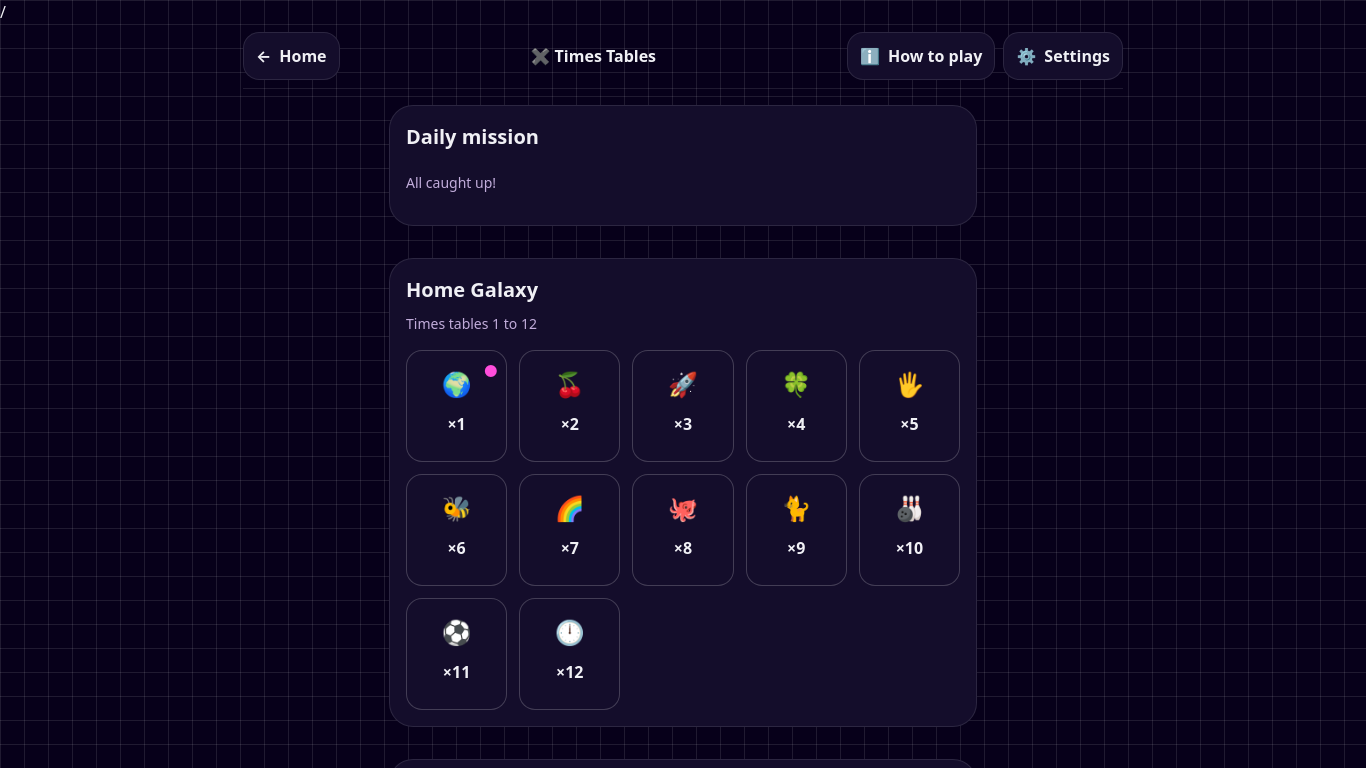
TimesTablesPage › keeps the rules one tap away in the game rather than on the home screen
The image size is (1366, 768).
Click the button "ℹ️ How to play".
click(921, 56)  # box [847,32,995,80]
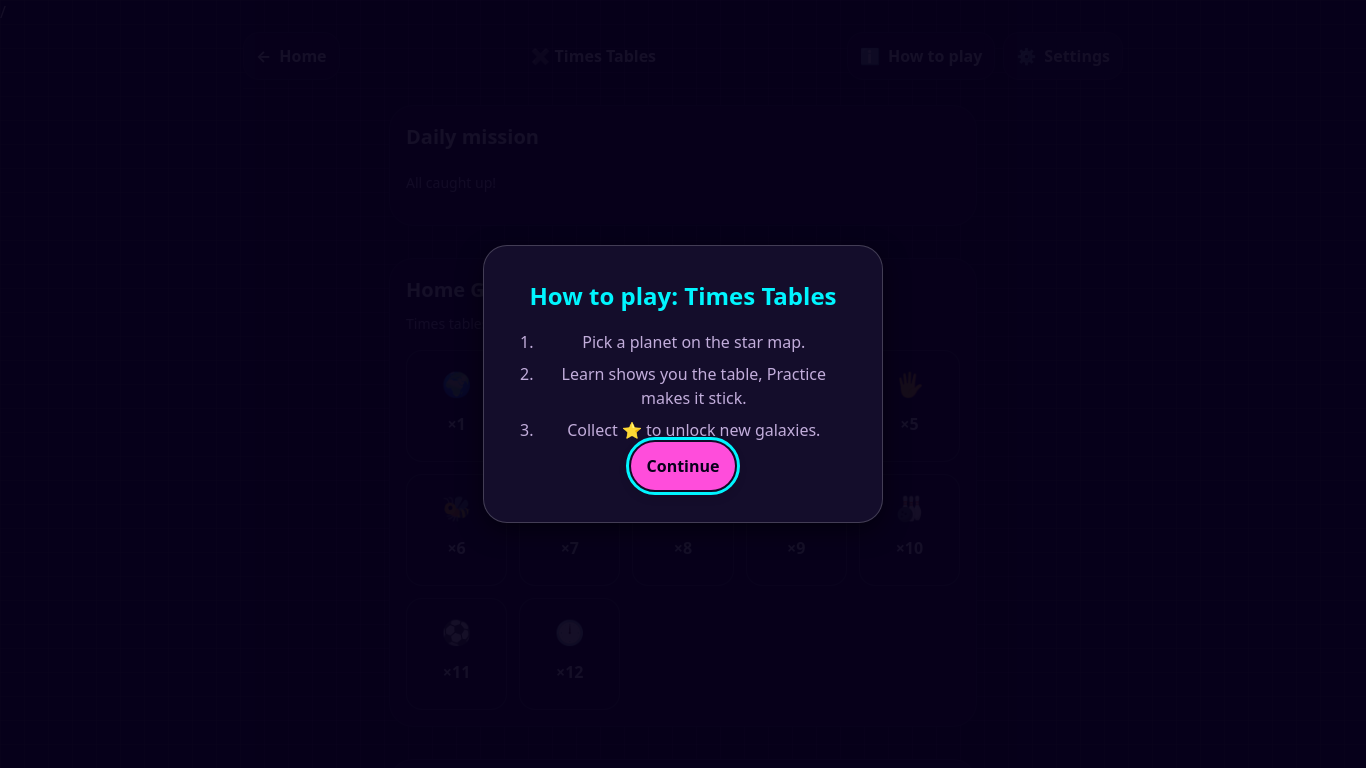
Expected: the dialog "How to play: Times Tables" is shown
Click the button "Continue".
click(683, 466)  # box [630,442,735,490]
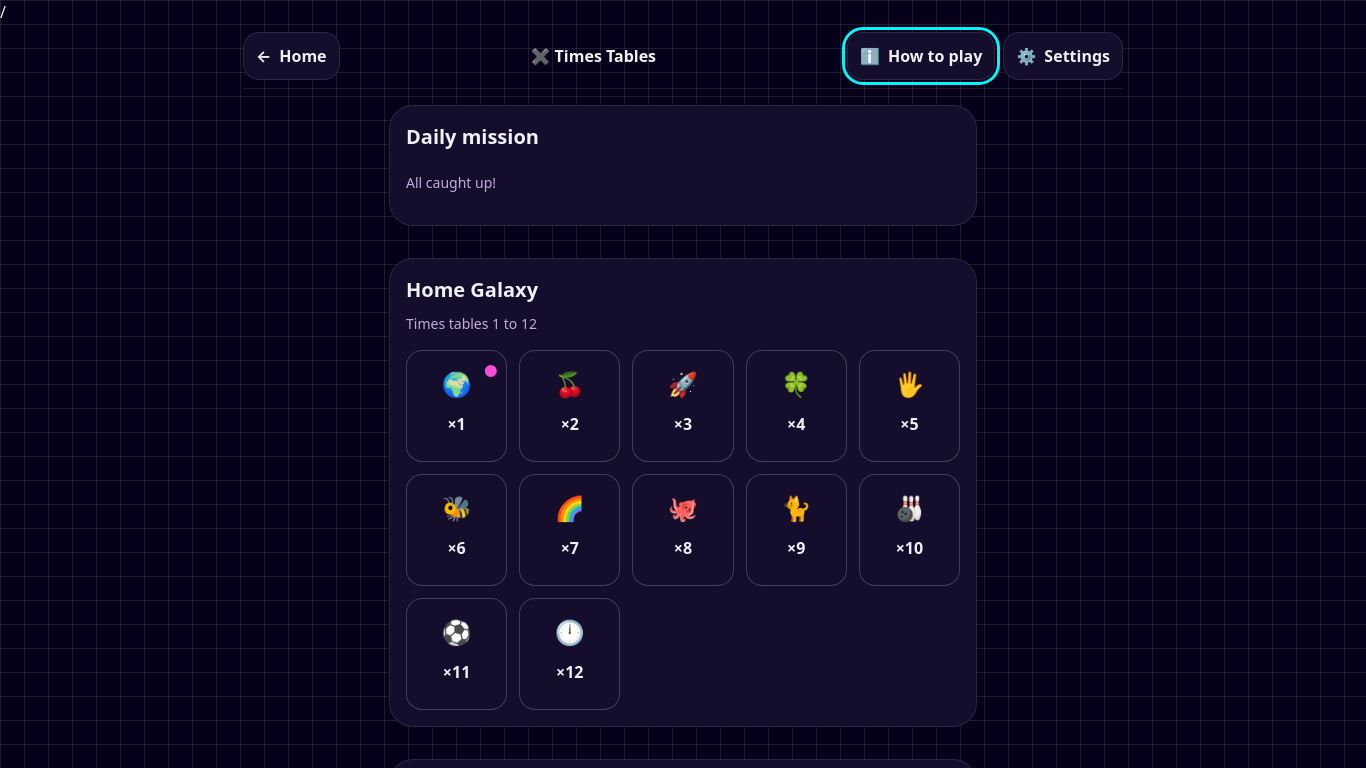
Expected: the dialog is gone
